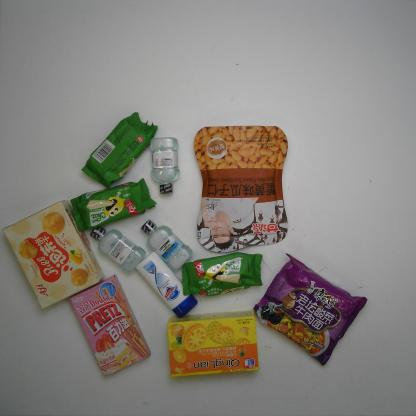Dessert: (1, 198, 107, 310), (68, 274, 151, 378), (167, 309, 260, 378), (80, 111, 160, 189), (69, 177, 156, 232), (176, 250, 264, 301)
Dried Fruit: (193, 124, 290, 254)
Instant Noodles: (252, 252, 368, 367)
Personal Hygiene: (135, 251, 198, 319), (140, 219, 194, 272), (89, 226, 146, 274), (150, 136, 180, 195)
